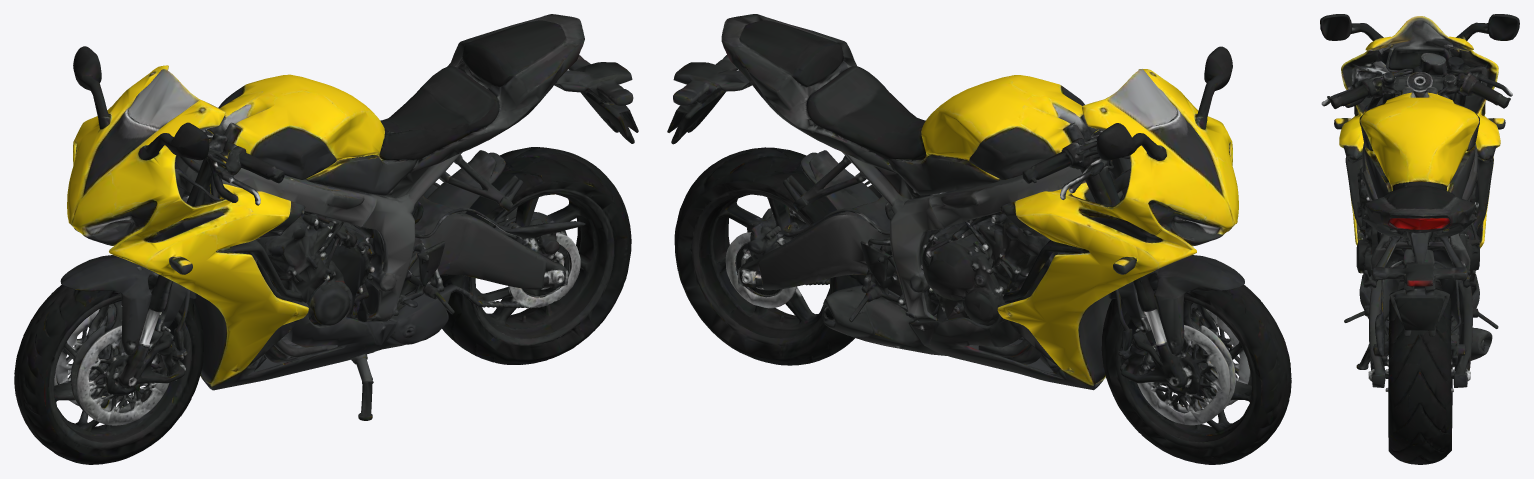
The model's file is c600rr-race.glb.
3 renders of one model, left to right at view 1: azimuth 30°, elevation 25°; view 2: azimuth 150°, elevation 25°; view 3: azimuth 270°, elevation 25°, orthographic. The views are drawn at different scales.
Bounding box in the file's own units: 1.9 × 1.12 × 0.6725.
1 material, 1 textured.
